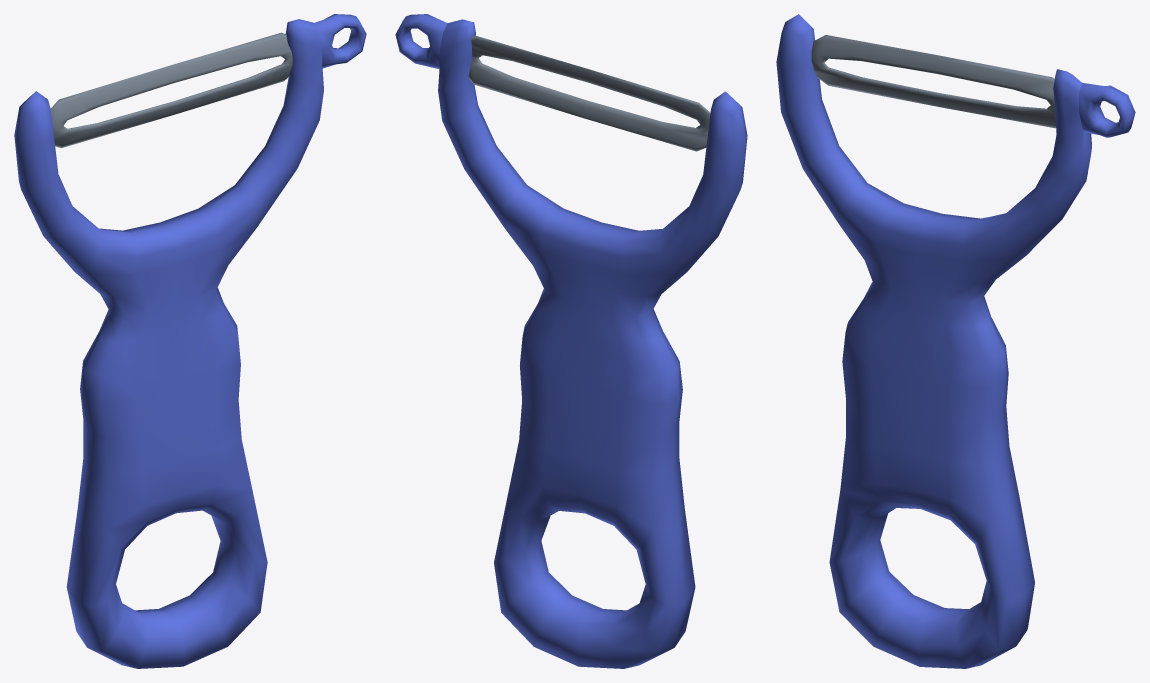
Rendered from Peeler.fbx.
The picture shows the model from 3 angles, left to right: view 1: azimuth 30°, elevation 25°; view 2: azimuth 150°, elevation 25°; view 3: azimuth 330°, elevation 25°; orthographic projection. The views are drawn at different scales.
Parts seen in each view (by area): view 1: Cube.001; view 2: Cube.001; view 3: Cube.001.
Part boxes in pixels (x1,y1,x2,y2): Cube.001: (14, 14, 366, 668); Cube.001: (395, 14, 747, 668); Cube.001: (776, 14, 1135, 668).
Bounding box in the file's own units: 26.04 × 43.75 × 4.58.
